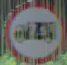Heavy Vehicles: (8, 5, 66, 55)
